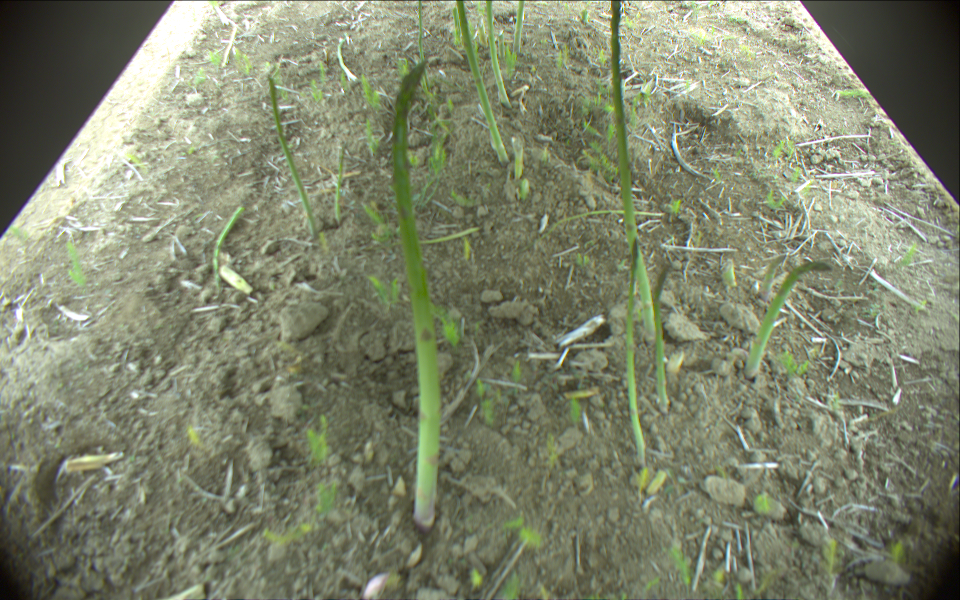aspa: (392, 59, 441, 529), (609, 1, 655, 340), (748, 259, 829, 382), (267, 74, 318, 238), (457, 1, 508, 164), (626, 239, 648, 461), (534, 211, 667, 237), (654, 259, 674, 411), (485, 1, 511, 108), (210, 206, 242, 292), (758, 252, 787, 302), (334, 145, 346, 224), (511, 1, 527, 55), (338, 35, 357, 80), (513, 142, 525, 177), (417, 1, 424, 55), (453, 9, 462, 47), (498, 30, 506, 56)
